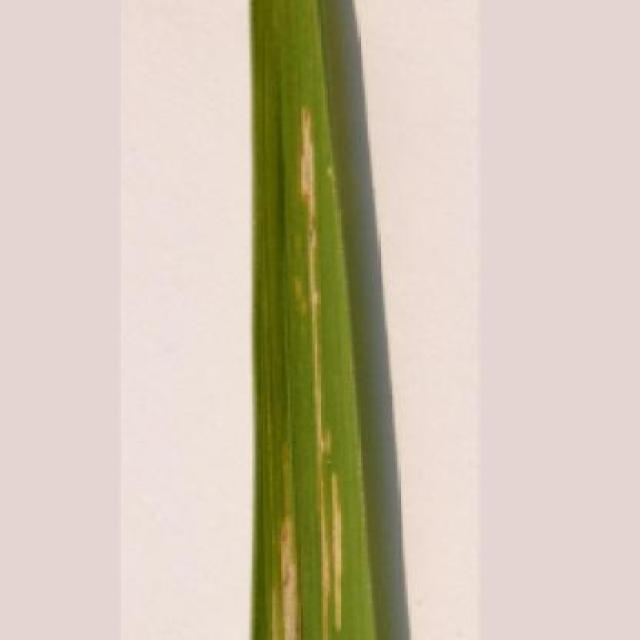Brown_Spot: (244, 0, 382, 640)
